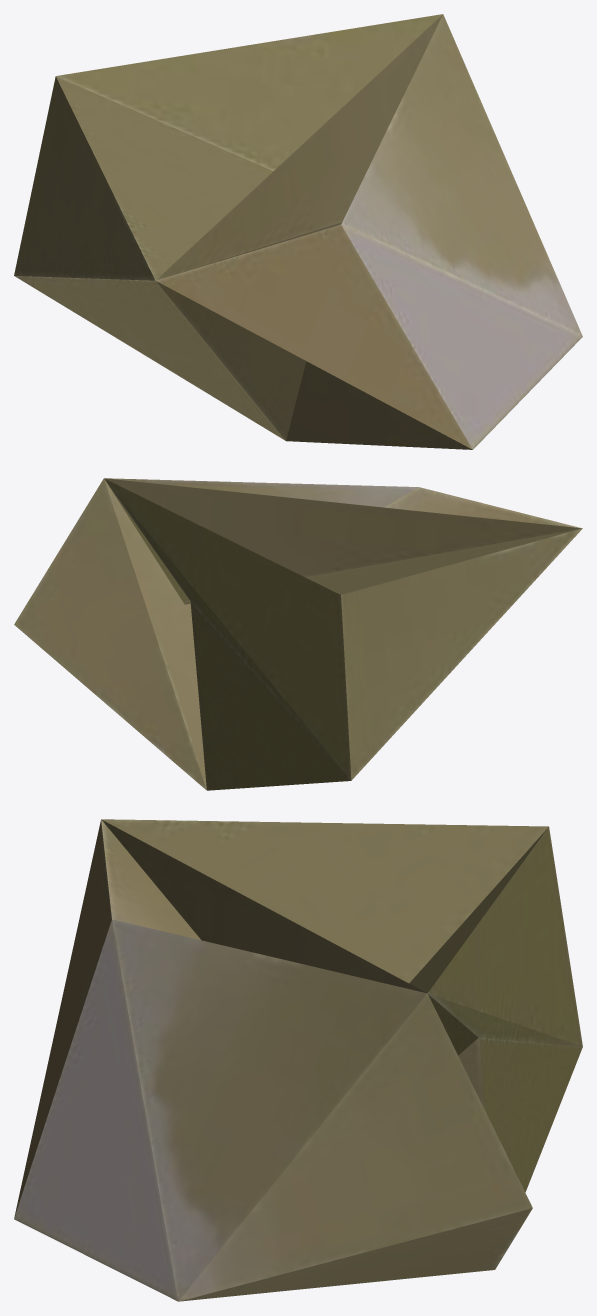
File: bush.glb
The picture shows the model from 3 angles, top to bottom: view 1: azimuth 30°, elevation 25°; view 2: azimuth 150°, elevation 25°; view 3: azimuth 270°, elevation 25°; orthographic projection. The views are drawn at different scales.
Bounding box in the file's own units: 1.18 × 0.7224 × 1.03.
1 material, 1 textured.
